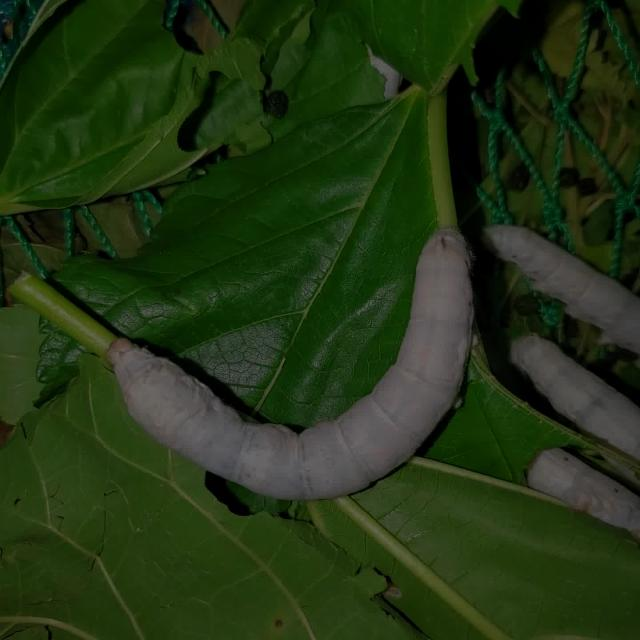Healthy: (88, 214, 484, 514)
